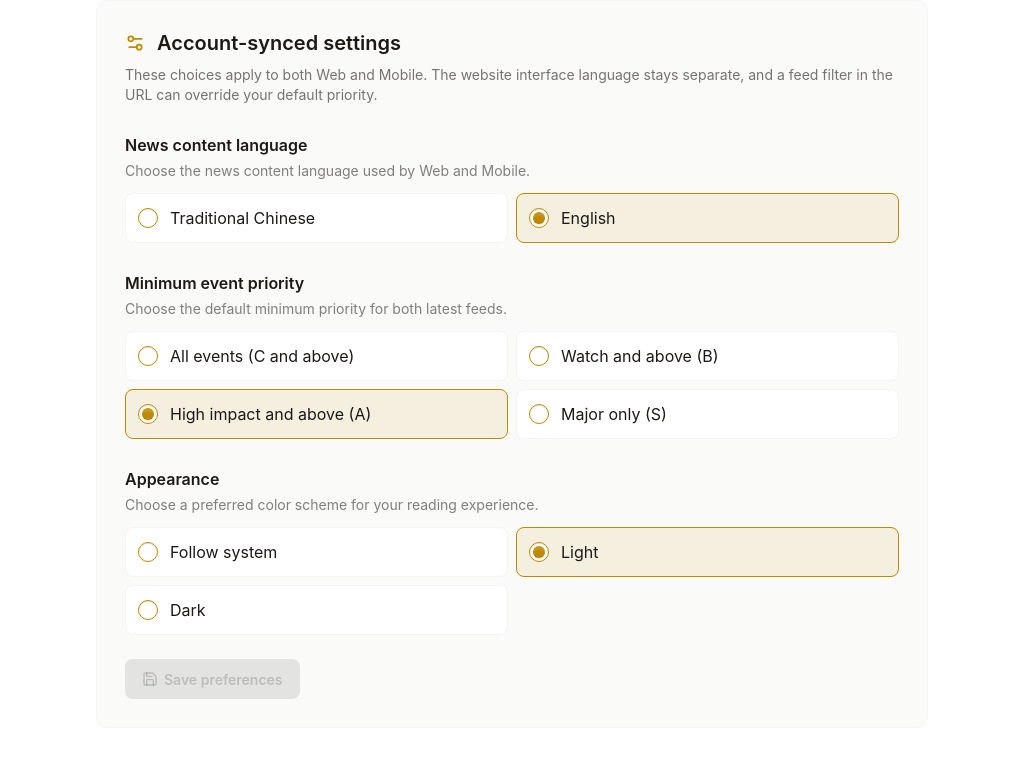
Test: account-applied Web reading › retains the draft and shows an error when saving fails
The width and height of the screenshot is (1024, 768).
(page scrolled)
Step 1. Click the radio button labelled "Dark" → point(148, 610), box [138, 600, 158, 620]
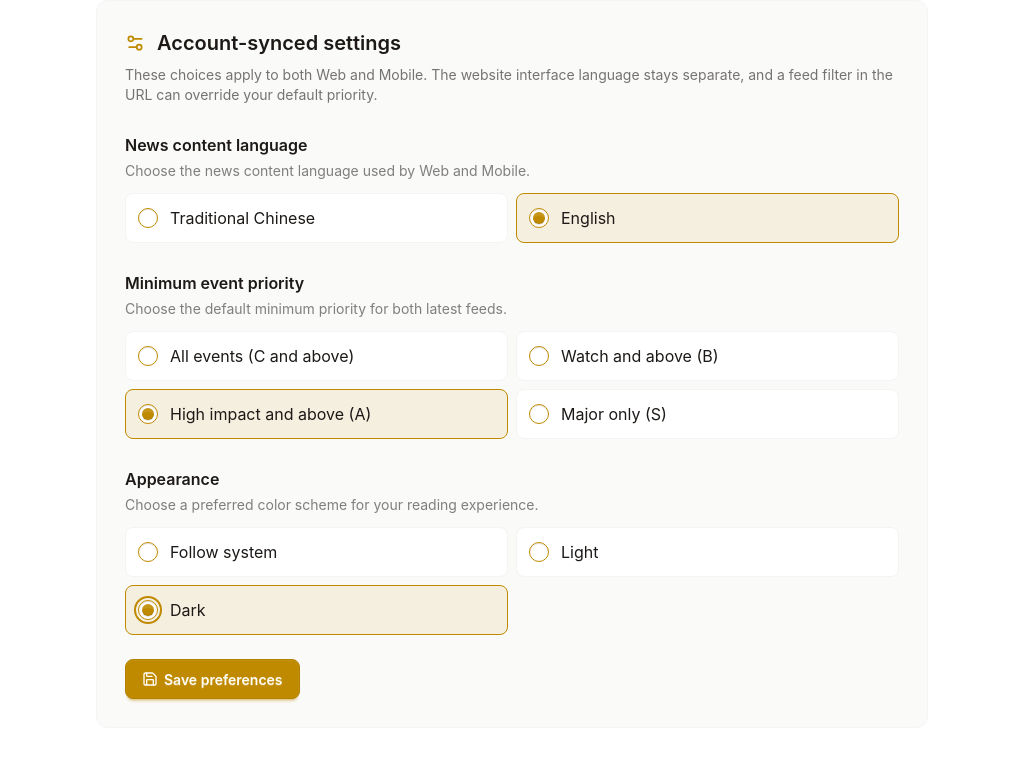
Step 2. Click the button "Save preferences" → point(212, 679), box [125, 659, 300, 699]
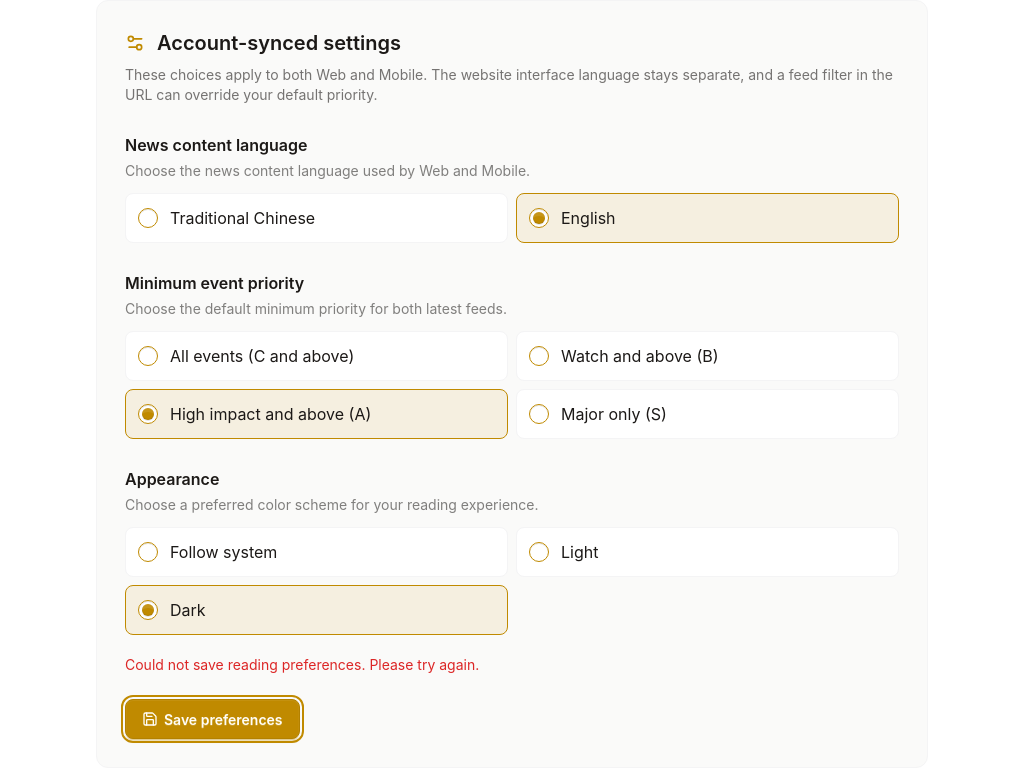
Expected: the radio button labelled "Dark" is checked, [138, 600, 158, 620]
Expected: the message "Could not save reading preferences. Please try again." is shown, [125, 656, 479, 673]
Step 3. Click the radio button labelled "Follow system" → point(148, 552), box [138, 542, 158, 562]
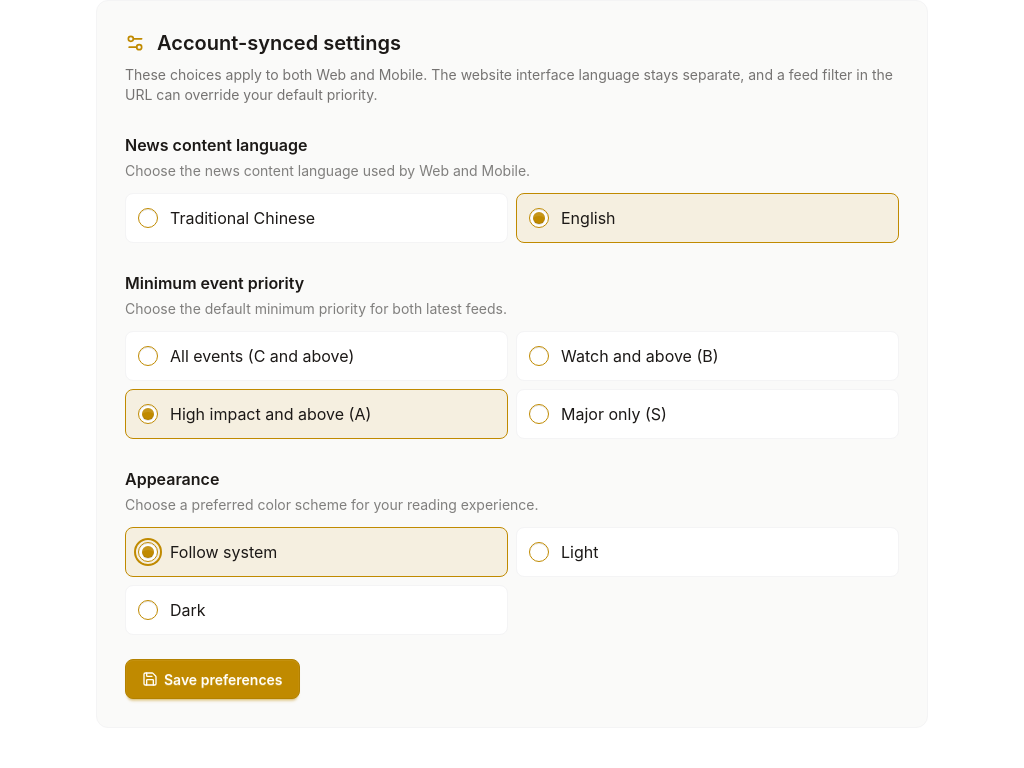
Expected: the message "Could not save reading preferences. Please try again." is gone
